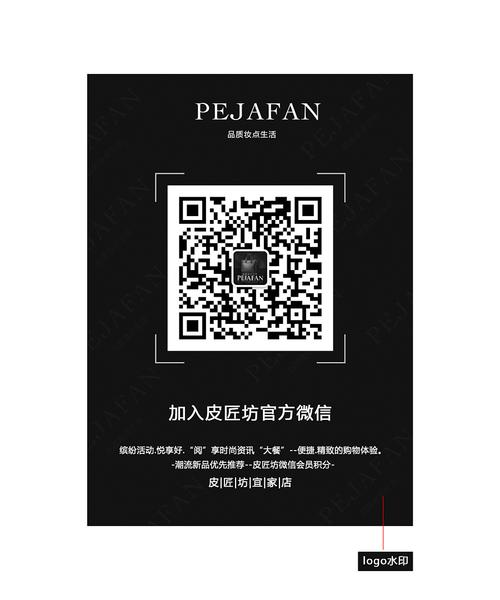QRCode: (177, 192, 328, 342)
